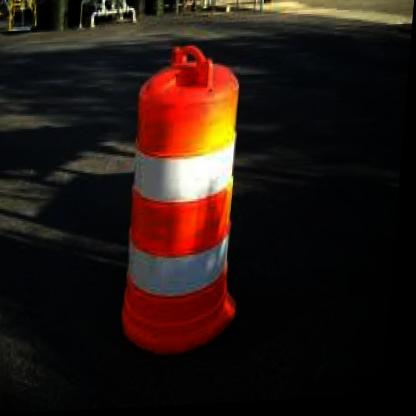obstacle: (117, 47, 253, 369)
